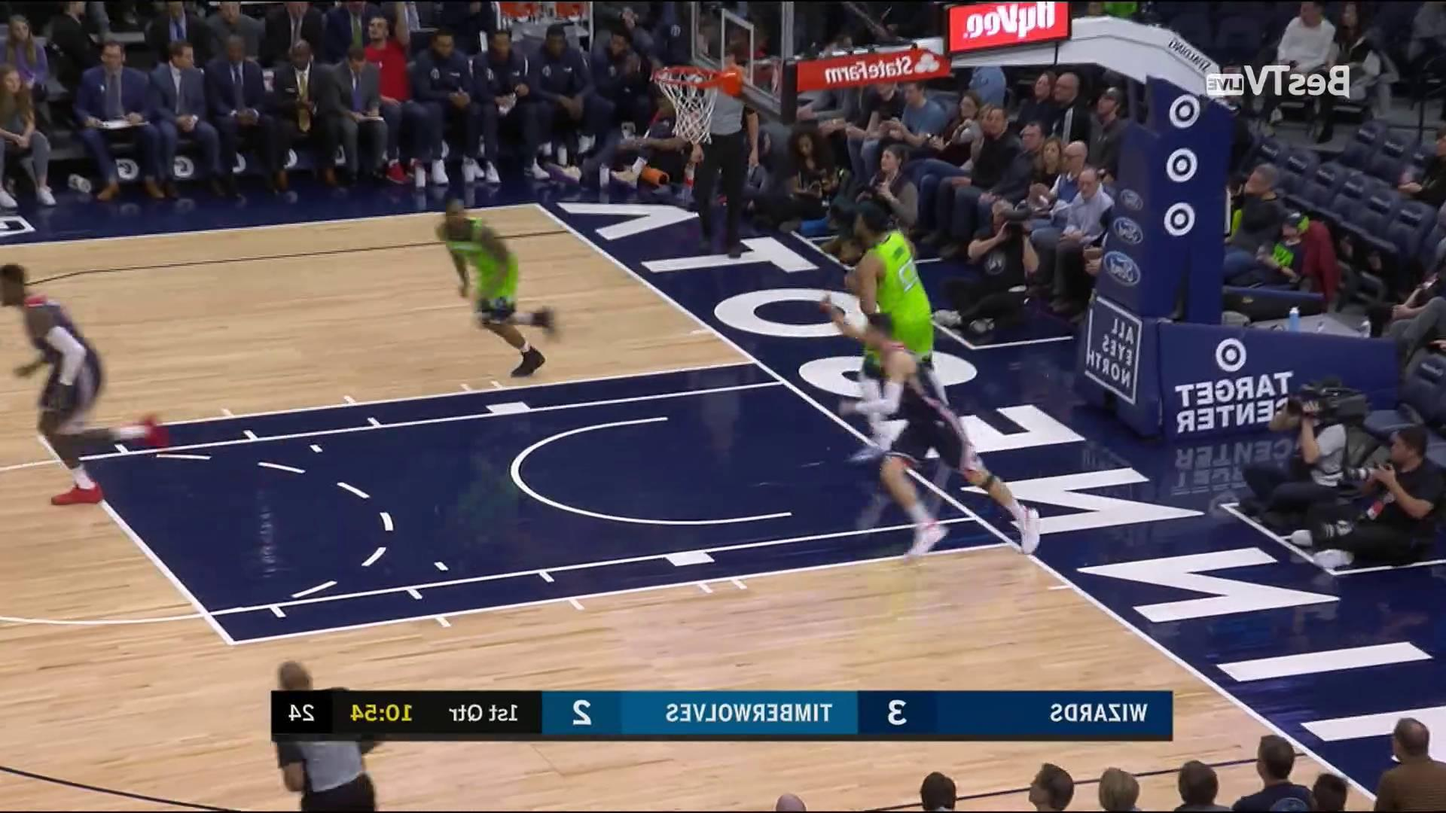basketball: (677, 110, 711, 142)
